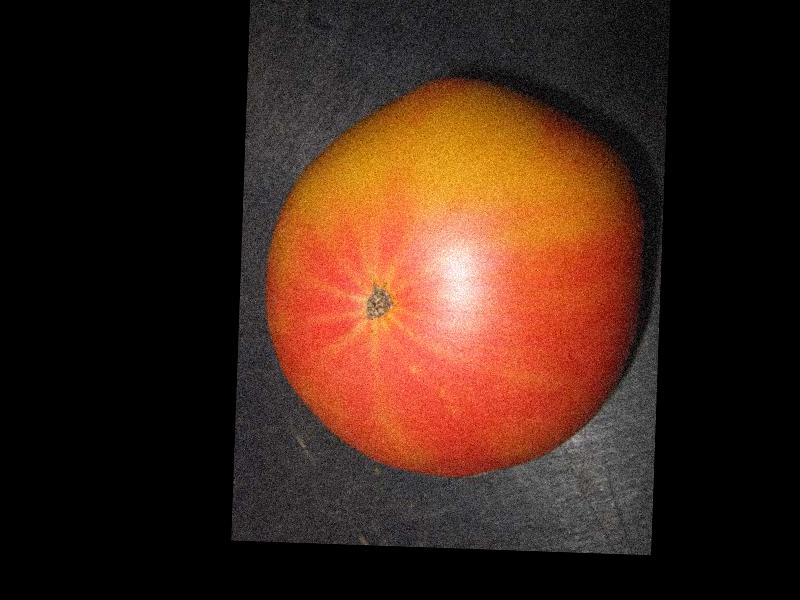Tomato: (259, 76, 651, 482)
